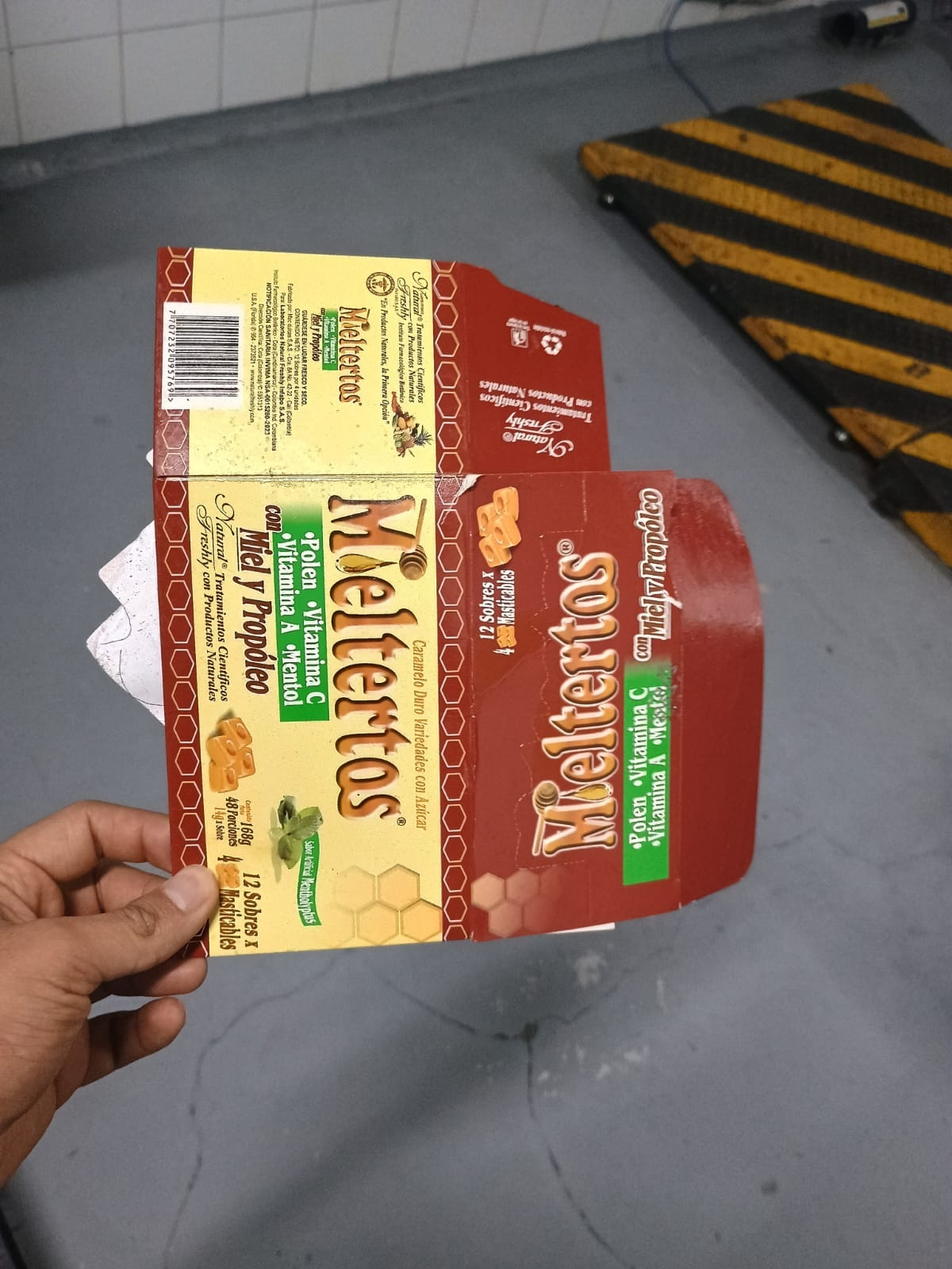Carton: (154, 244, 767, 952)
